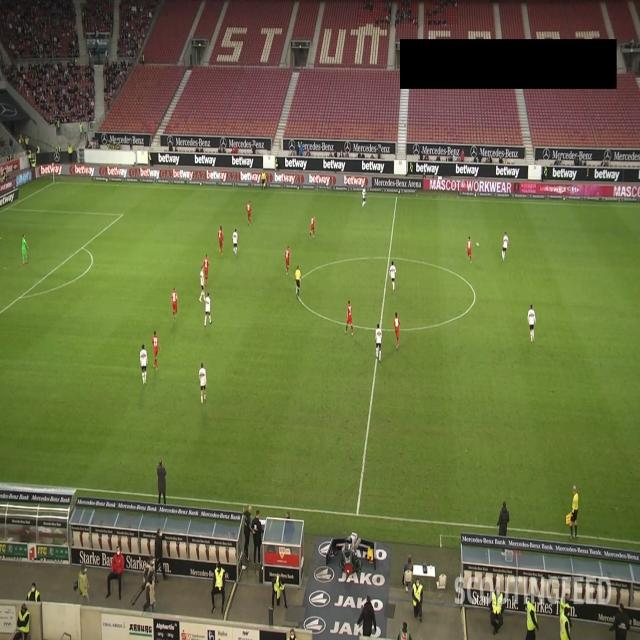ball: (476, 241, 479, 247)
